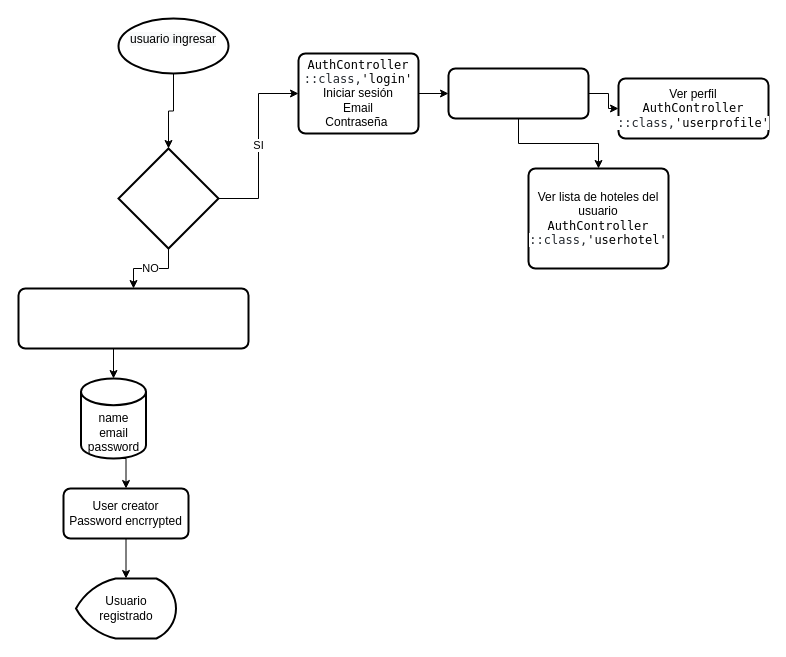
The diagram is 786 pixels wide and 657 high, and some of its shapes have lost their labels. Here are the shapes that lost their labels. From the top down, the centre of each, then its label:
At (x=518, y=93): "Validar datos Creacion de token".
At (x=168, y=198): "Se encuentra registrado?".
At (x=133, y=318): "AuthController ::class, 'register'".
